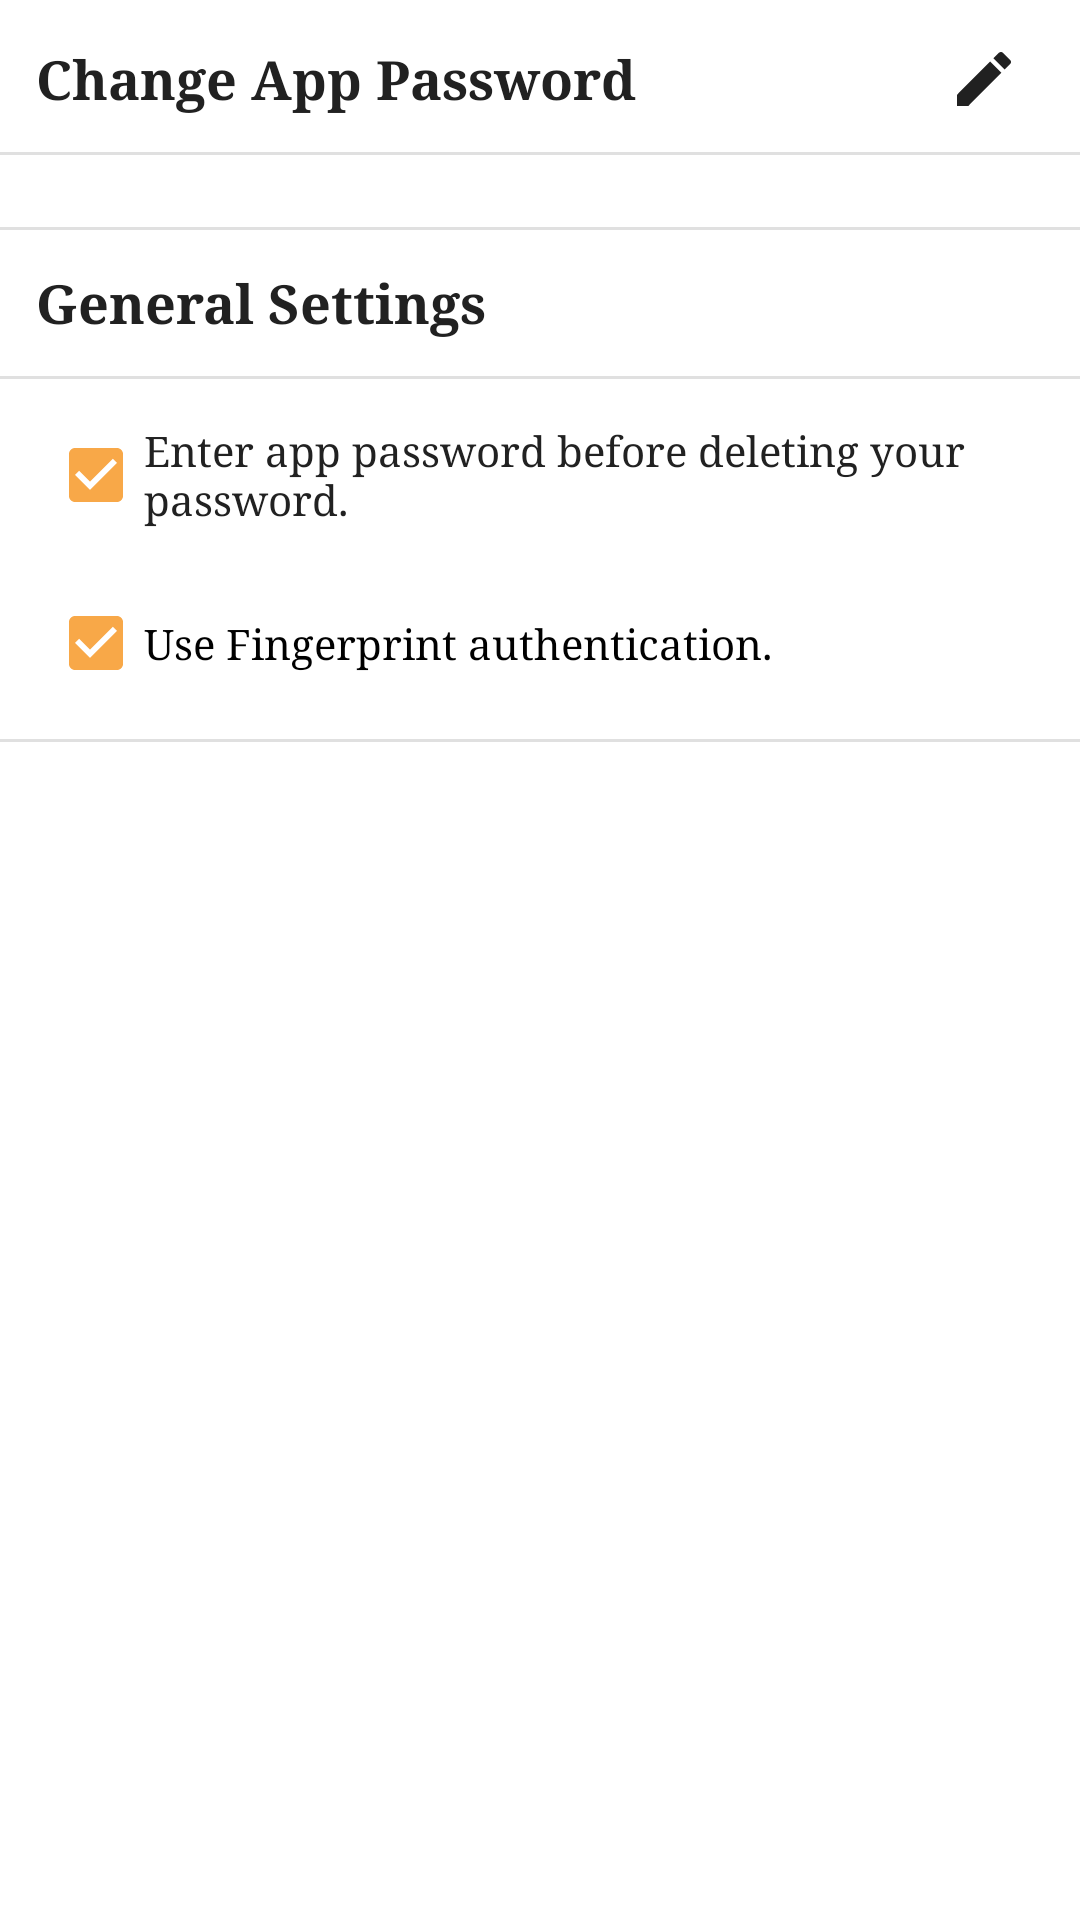

Icons on this 1080 x 1920 Android screen, each with the point to tap as point (x, y):
edit: point (984, 79)
